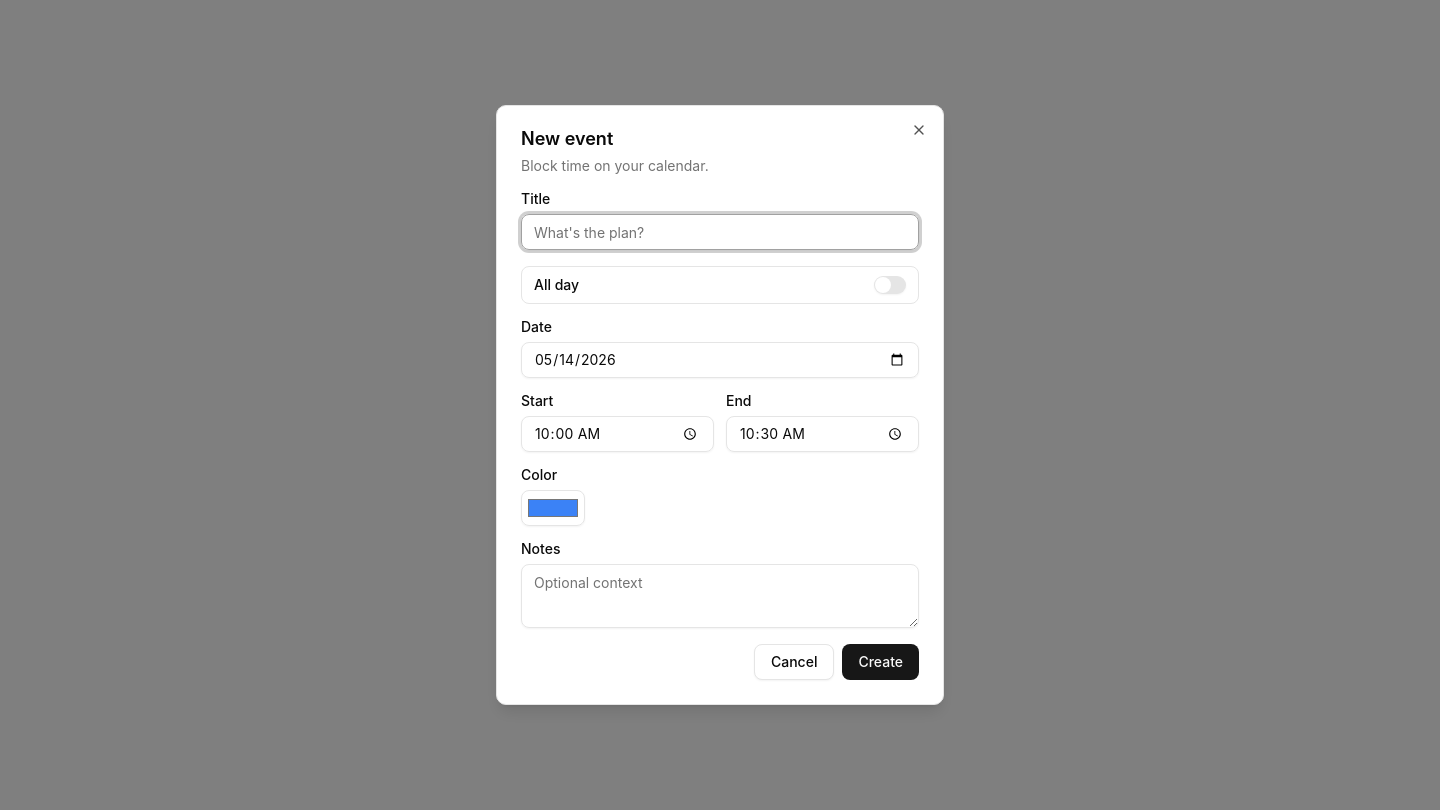
Test: EventDialog › shows a validation error when title is empty on submit
Click the button "Create": coordinates (881, 662) [842, 644, 919, 680]
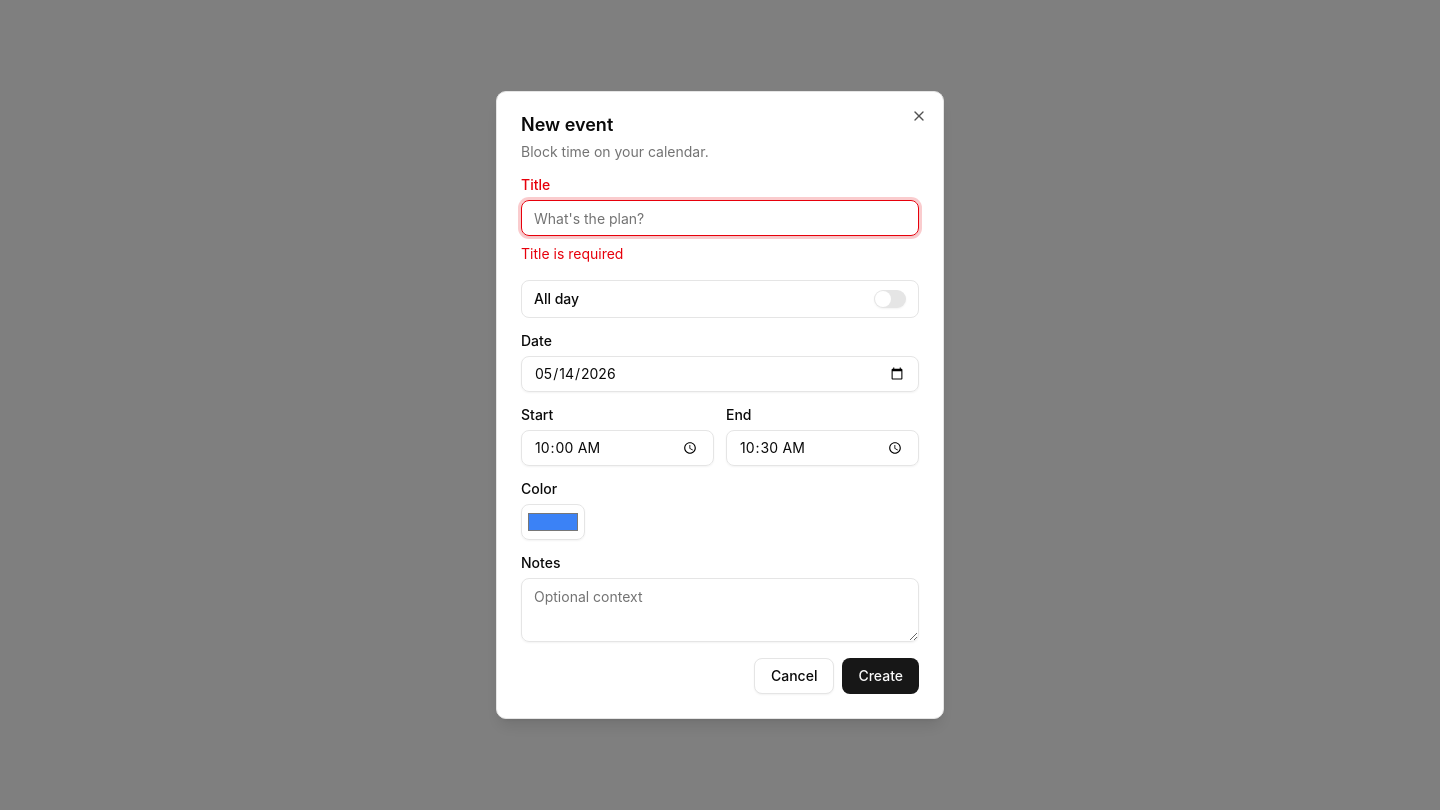
Result: the text "Title is required" is shown at [521, 245, 623, 262]
